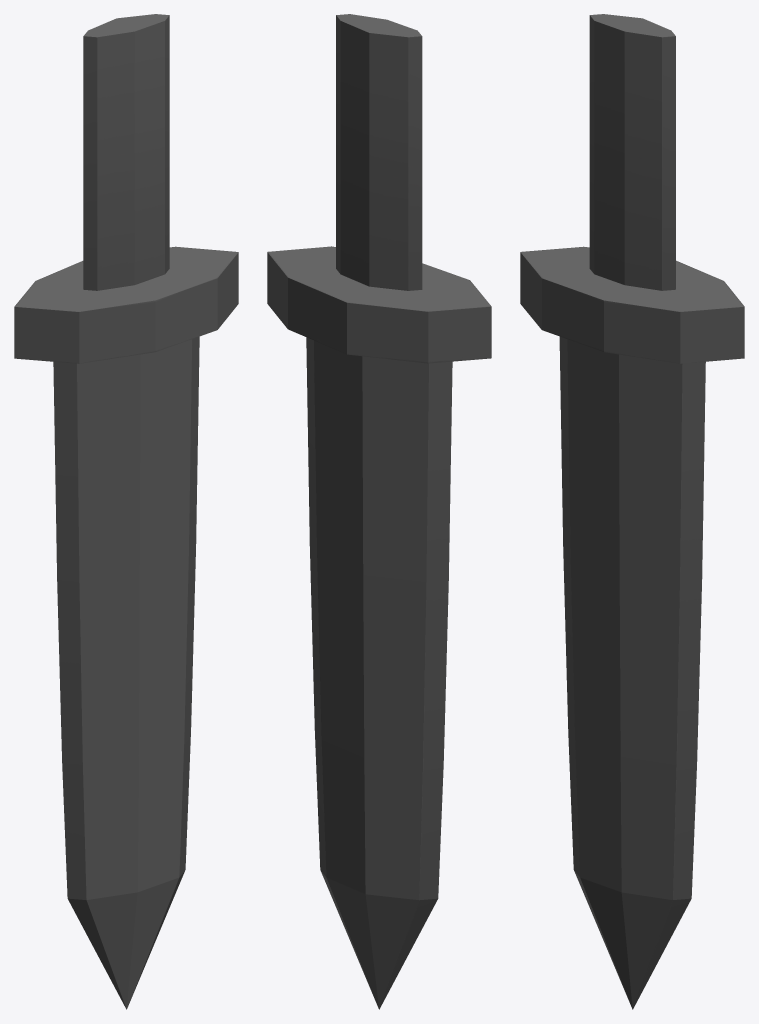
Rendered from sword.fbx.
The picture shows the model from 3 angles, left to right: view 1: azimuth 30°, elevation 25°; view 2: azimuth 150°, elevation 25°; view 3: azimuth 330°, elevation 25°; orthographic projection.
Visible parts, largest first — view 1: Box080; view 2: Box080; view 3: Box080.
Part boxes in pixels (<box>): Box080: <box>14,14,238,1009</box>; Box080: <box>267,14,491,1009</box>; Box080: <box>520,14,744,1009</box>.
Bounding box in the file's own units: 7.34 × 30.76 × 3.46.
